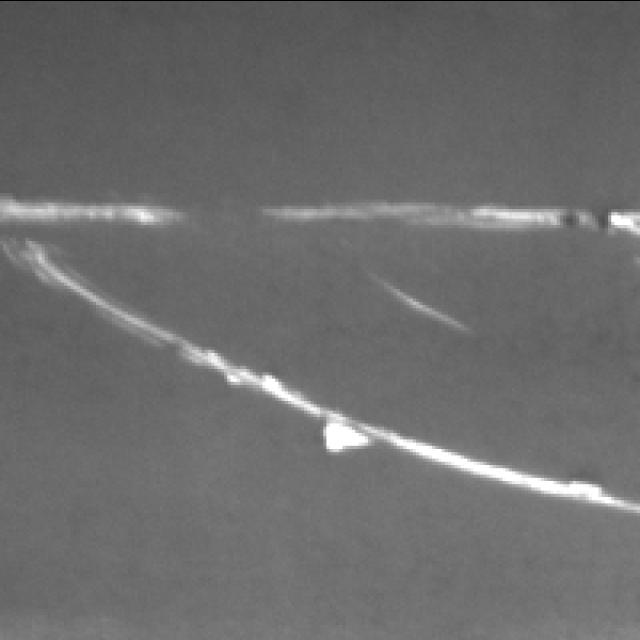scratches: (7, 241, 630, 517), (0, 205, 640, 229)
